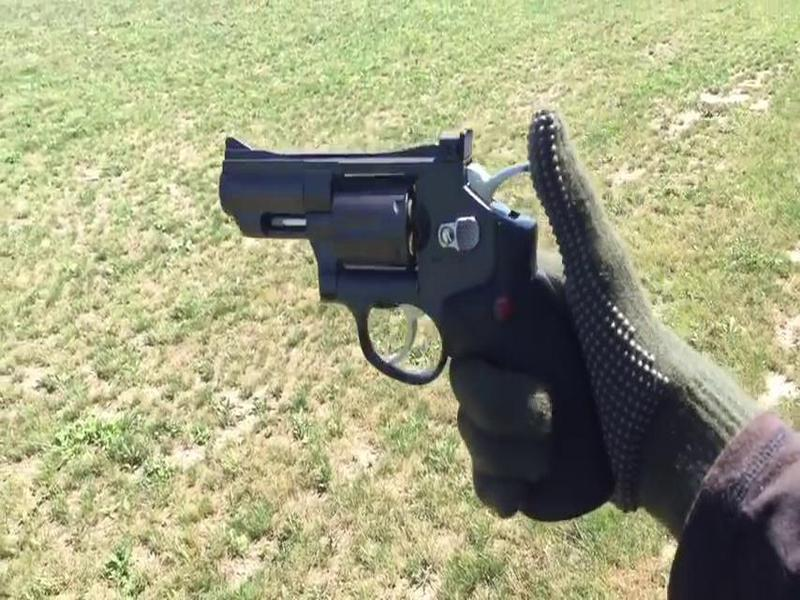Revolver: (214, 105, 616, 514)
